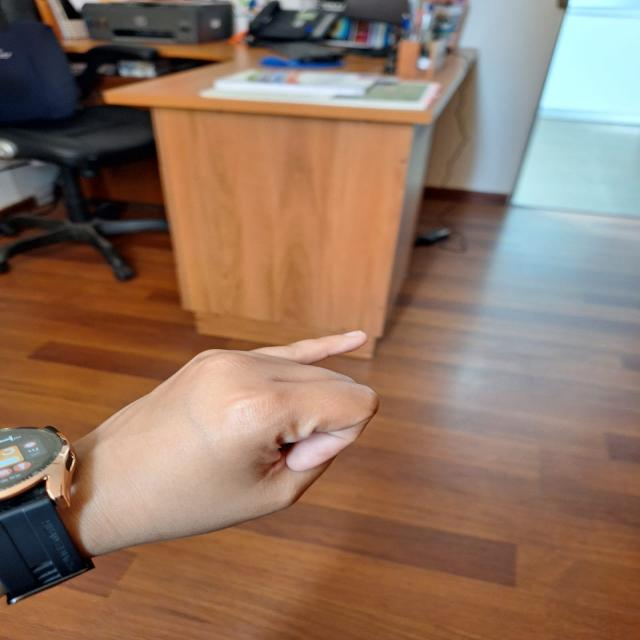Z: (108, 322, 400, 548)
